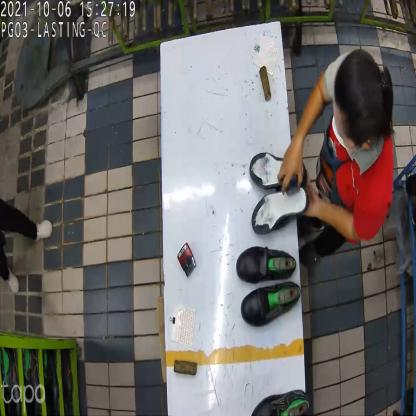shoes: (235, 244, 302, 328), (248, 151, 310, 237)
stamp: (174, 244, 197, 277), (284, 164, 304, 198)
